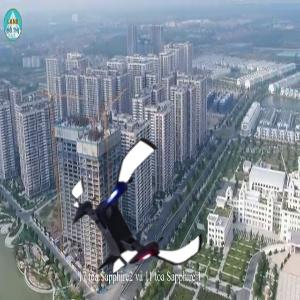drone: (67, 148, 210, 291)
